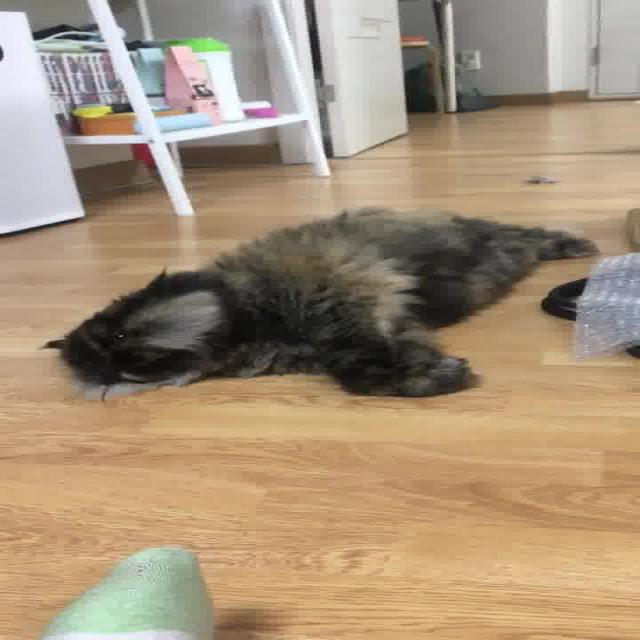cat: (35, 187, 615, 411)
